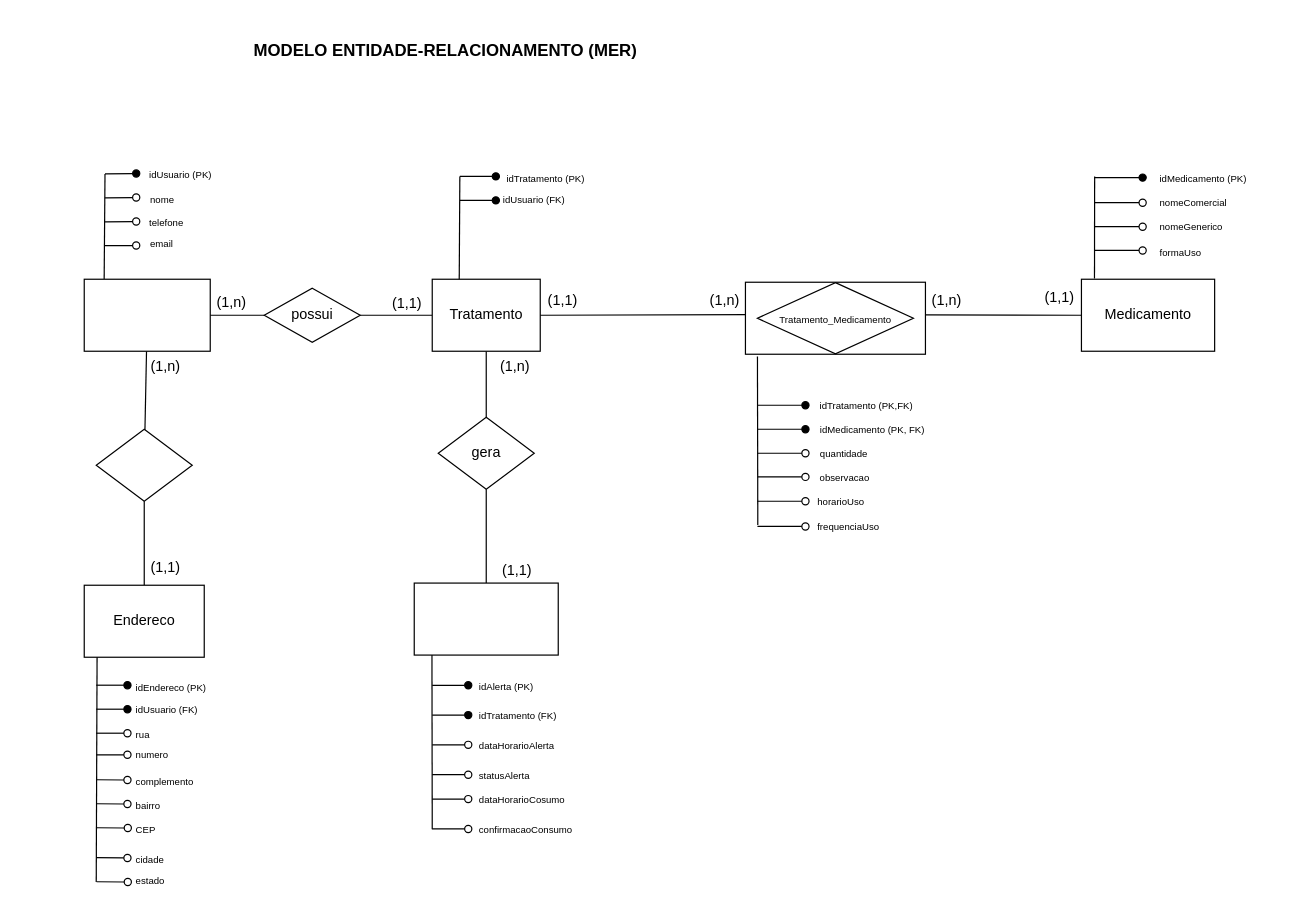
Some shapes in this 1314 by 913 pixel diagram are drawn without their labels. Here are the shapes that lost their labels. From the top down, the centre of each, then its label:
(x=146, y=314): Usuario
(x=143, y=464): tem
(x=485, y=618): Alerta
